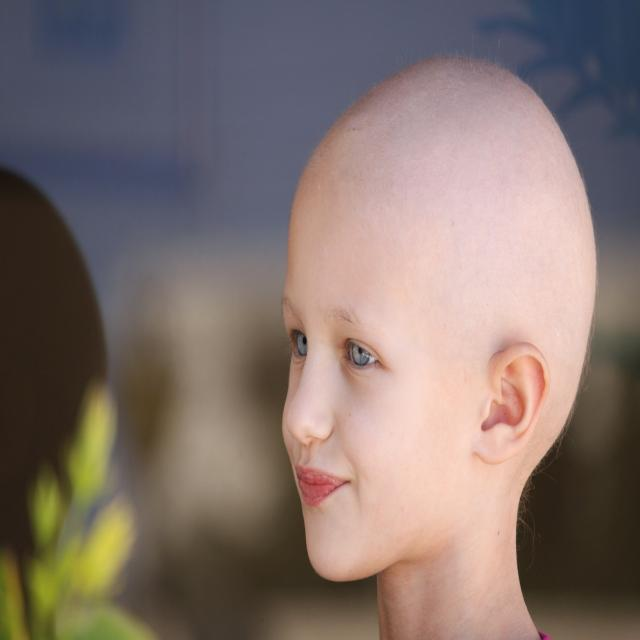no_helmet: (274, 43, 604, 396)
